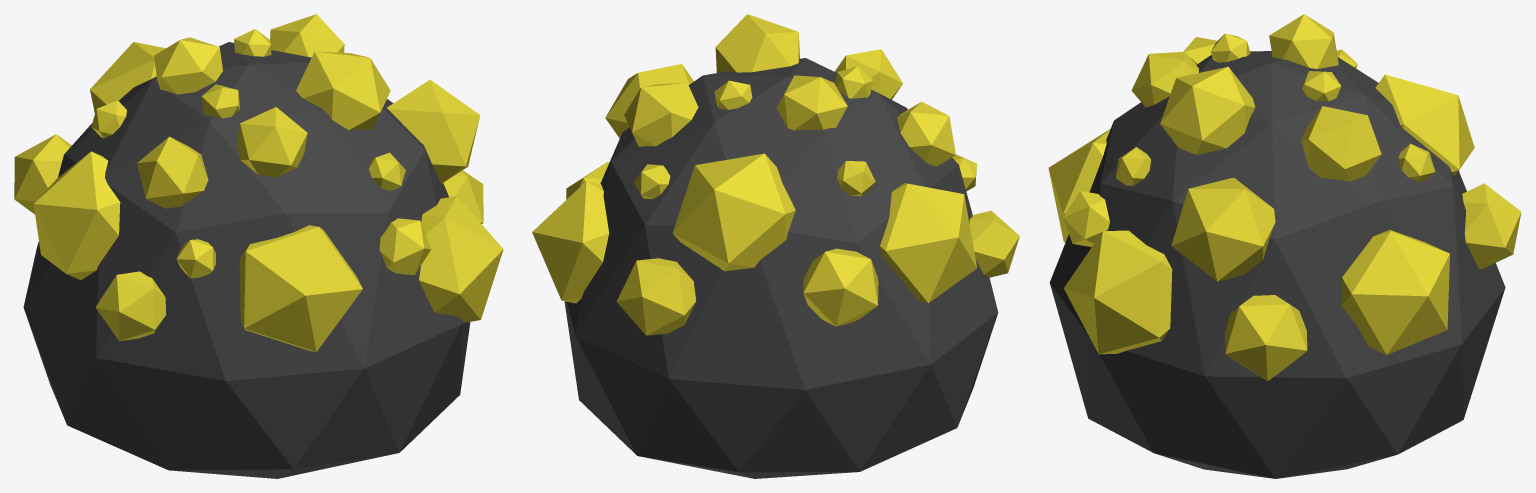
Rendered from Chunk.fbx.
The picture shows the model from 3 angles, left to right: view 1: azimuth 30°, elevation 25°; view 2: azimuth 150°, elevation 25°; view 3: azimuth 270°, elevation 25°; orthographic projection. The views are drawn at different scales.
Visible parts, largest first — view 1: Icosphere.004, Icosphere.027; view 2: Icosphere.004, Icosphere.027; view 3: Icosphere.004, Icosphere.027.
Boxes of the visible parts, left/top/right/bottom form: Icosphere.004: left=23, top=42, right=470, bottom=478; Icosphere.027: left=14, top=14, right=503, bottom=351; Icosphere.004: left=564, top=58, right=998, bottom=478; Icosphere.027: left=532, top=14, right=1019, bottom=335; Icosphere.004: left=1049, top=51, right=1505, bottom=478; Icosphere.027: left=1048, top=14, right=1521, bottom=381.
Bounding box in the file's own units: 138 × 122 × 135.
